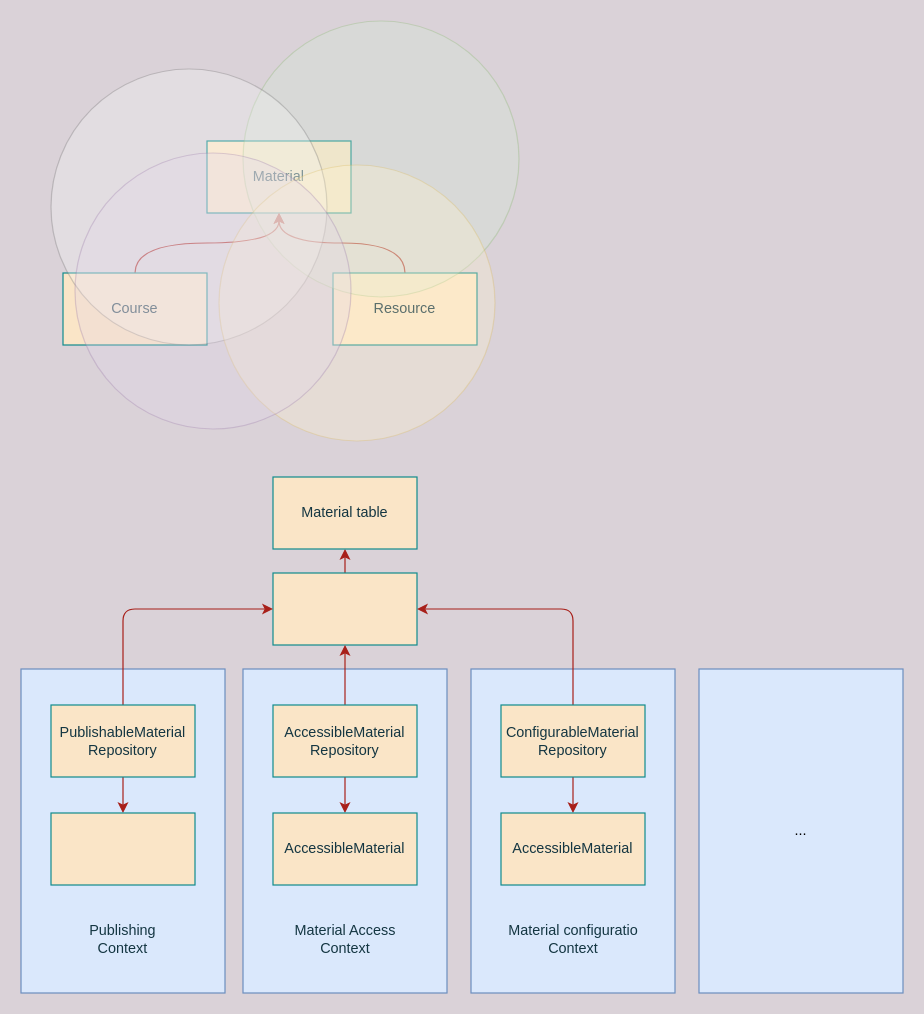
The diagram is 924 pixels wide and 1014 high, and some of its shapes have lost their labels. Here are the shapes that lost their labels. From the top down, the box of each, then its label:
(272, 572, 417, 645): Material model
(50, 812, 195, 885): PublishableMaterial
